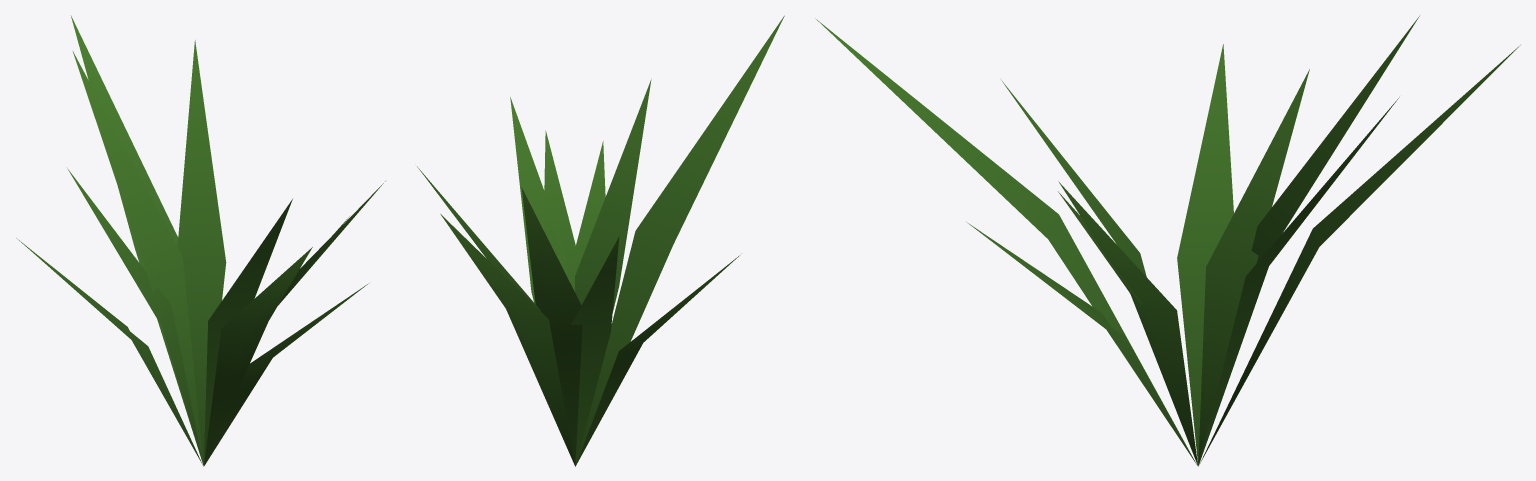
The model's file is tuft-1.glb.
The picture shows the model from 3 angles, left to right: view 1: azimuth 30°, elevation 25°; view 2: azimuth 150°, elevation 25°; view 3: azimuth 270°, elevation 25°; orthographic projection. The views are drawn at different scales.
Parts seen in each view (by area): view 1: tuft-1; view 2: tuft-1; view 3: tuft-1.
Boxes of the visible parts, left/top/right/bottom form: tuft-1: left=16, top=15, right=385, bottom=466; tuft-1: left=417, top=15, right=784, bottom=466; tuft-1: left=815, top=16, right=1520, bottom=466.
Bounding box in the file's own units: 0.3478 × 0.3938 × 0.587.
